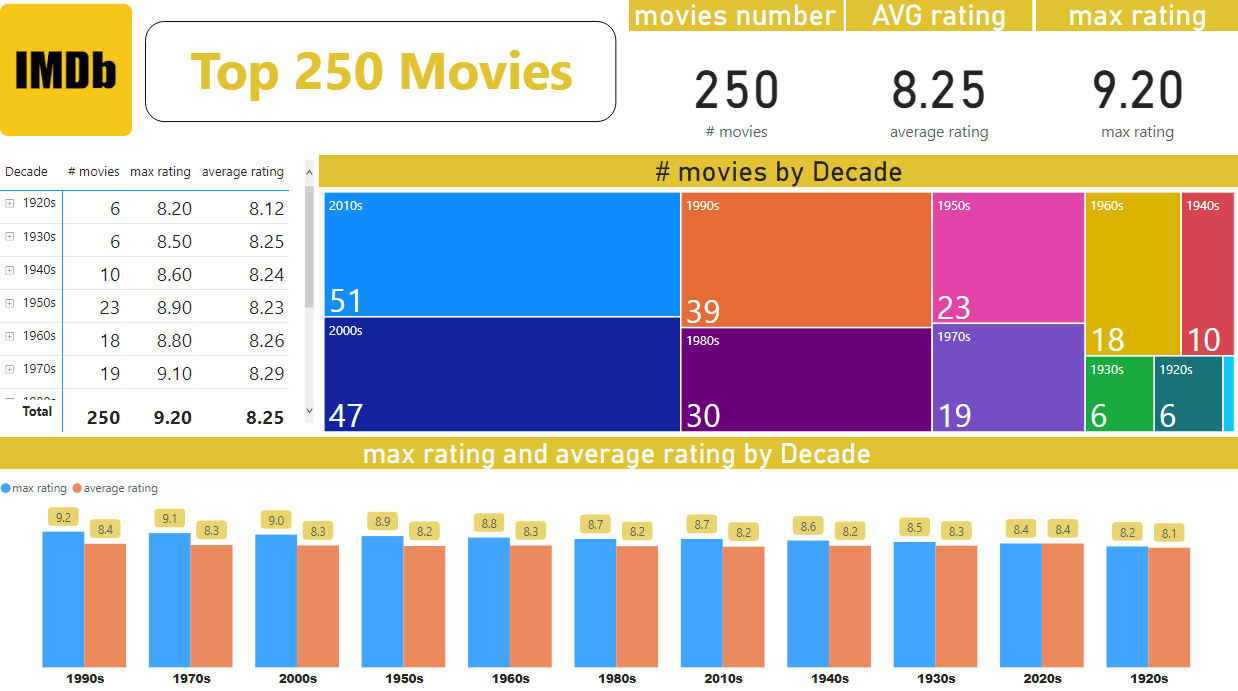

Layout of this report page (visuals, bound fields, positions):
{"tool":"powerbi","page":{"name":"Page 1","canvas":[1280,720],"ordinal":0},"visuals":[{"type":"textbox","box":[154.4,28.9,484.8,103.9],"z":0},{"type":"image","box":[0,0,145.7,147.2],"z":1},{"type":"card","title":"movies number","fields":{"Values":["dax_measures.# movies"]},"box":[652.2,0,220.8,161.6],"z":2},{"type":"card","title":"AVG rating","fields":{"Values":["dax_measures.average rating"]},"box":[875.8,0,191.9,161.6],"z":4},{"type":"card","title":"max rating","fields":{"Values":["dax_measures.max rating"]},"box":[1070.6,0,209.2,161.6],"z":5},{"type":"lineClusteredColumnComboChart","fields":{"Category":["top 25movies.Decade Hierarchy.Decade","top 25movies.Decade Hierarchy.year"],"Y":["dax_measures.max rating","dax_measures.average rating"]},"box":[0,451.6,1279.8,268.4],"z":6},{"type":"pivotTable","fields":{"Rows":["top 25movies.Decade Hierarchy.Decade","top 25movies.Decade Hierarchy.year"],"Values":["dax_measures.# movies","dax_measures.max rating","dax_measures.average rating"]},"box":[0,161.6,333.3,290],"z":7},{"type":"treemap","fields":{"Group":["top 25movies.Decade Hierarchy.Decade","top 25movies.Decade Hierarchy.year","top 25movies.name"],"Values":["dax_measures.# movies"]},"box":[333.3,161.6,946.5,290],"z":8}]}

Visuals, with their boxes in screenshot pixels (x1, y1, x2, y2), scaled from the page's 1280x720 canvas onto the 1238x691 screenshot:
textbox: box=[149, 28, 618, 127]
image: box=[0, 0, 141, 141]
"movies number" card: box=[631, 0, 844, 155]
"AVG rating" card: box=[847, 0, 1033, 155]
"max rating" card: box=[1035, 0, 1237, 155]
lineClusteredColumnComboChart - top 25movies.Decade Hierarchy.Decade x top 25movies.Decade Hierarchy.year: box=[0, 433, 1237, 690]
pivotTable - top 25movies.Decade Hierarchy.Decade x top 25movies.Decade Hierarchy.year: box=[0, 155, 322, 433]
treemap - top 25movies.Decade Hierarchy.Decade x top 25movies.Decade Hierarchy.year: box=[322, 155, 1237, 433]
